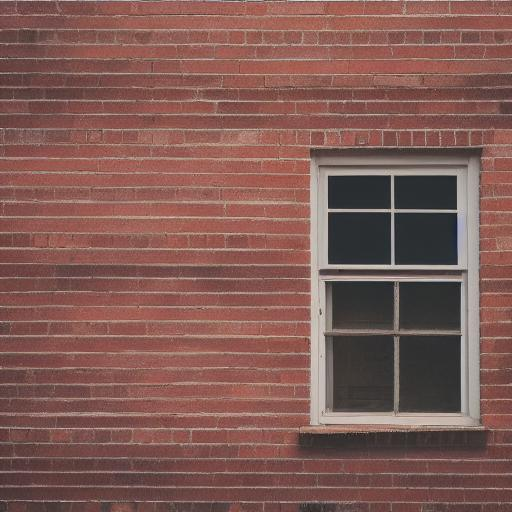Window: (299, 132, 489, 436)
